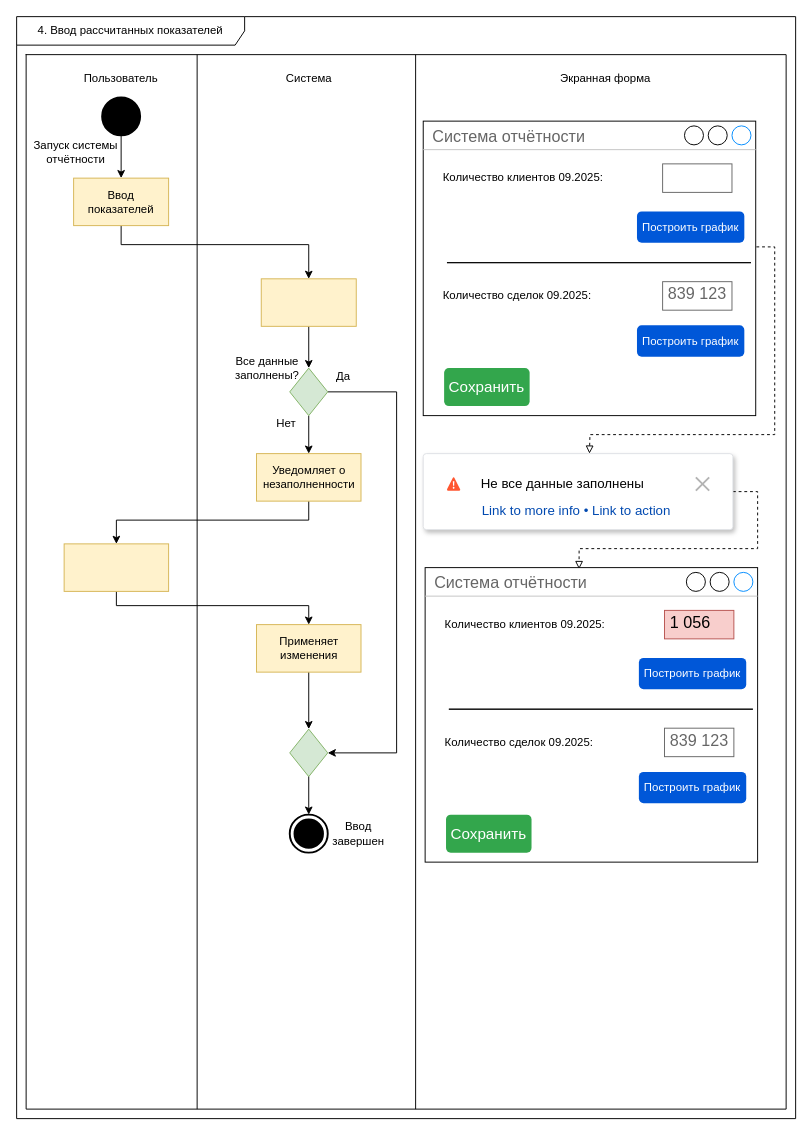
This 812x1135 diagram has some shape labels left out. Each missing label, with the centre of its shape:
"Вводит недостающие данные" goes at point (116, 567).
"Проверка заполнения всех полей" goes at point (308, 302).
